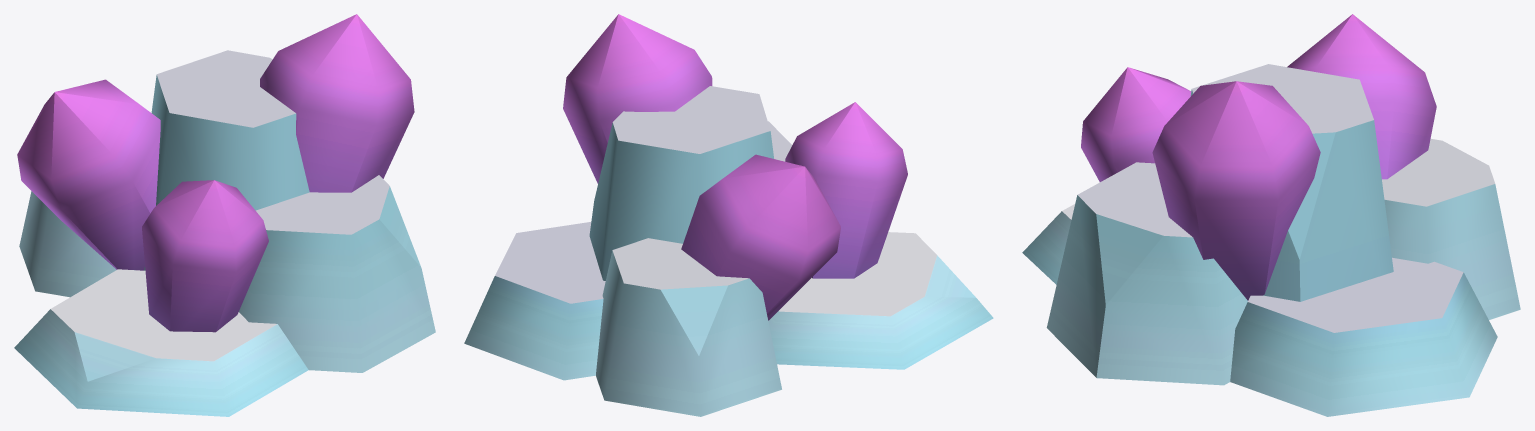
File: snow-detail-crystal-large.glb
3 views of the same model, side by side, from view 1: azimuth 30°, elevation 25°; view 2: azimuth 150°, elevation 25°; view 3: azimuth 270°, elevation 25° (orthographic). The views are drawn at different scales.
Visible parts, largest first — view 1: snow-detail-crystal-large; view 2: snow-detail-crystal-large; view 3: snow-detail-crystal-large.
Part boxes in pixels (box(x1,y1,x2,y2)): snow-detail-crystal-large: box(14, 14, 435, 416); snow-detail-crystal-large: box(464, 14, 993, 416); snow-detail-crystal-large: box(1022, 14, 1520, 416).
Size of the model in its own units: 0.8922 by 0.5518 by 0.8593.
1 material, 1 textured.
